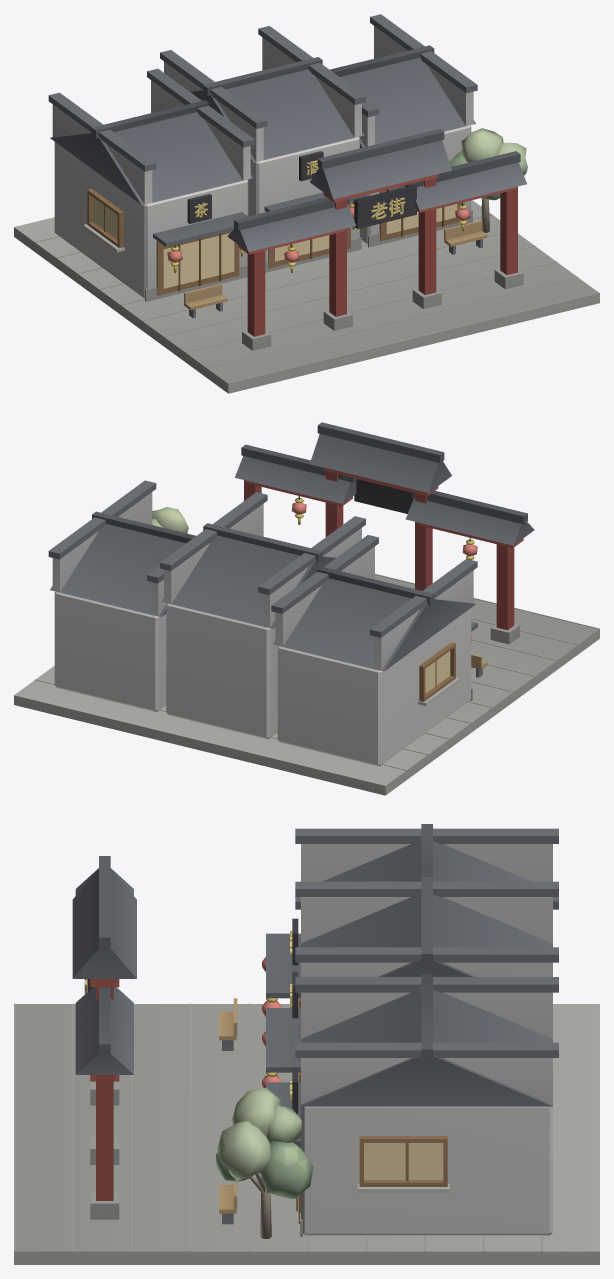
Rendered from old-street.glb.
3 renders of one model, top to bottom at view 1: azimuth 30°, elevation 25°; view 2: azimuth 150°, elevation 25°; view 3: azimuth 270°, elevation 25°, orthographic. The views are drawn at different scales.
Visible parts, largest first — view 1: old-street; view 2: old-street; view 3: old-street.
Boxes of the visible parts, left/top/right/bottom form: old-street: left=14, top=14, right=599, bottom=393; old-street: left=14, top=422, right=599, bottom=795; old-street: left=14, top=824, right=599, bottom=1264.
Size of the model in its own units: 2.06 by 0.92 by 2.
